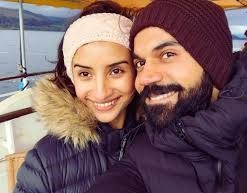Bad: (12, 1, 241, 193)
